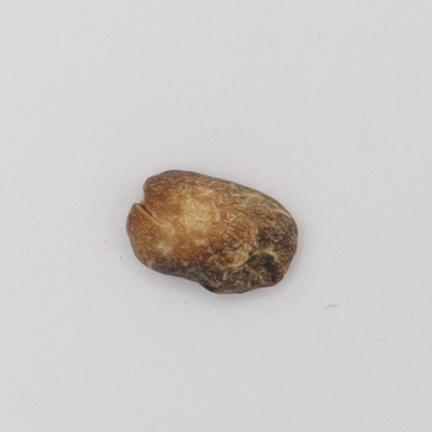partial-black: (128, 170, 296, 293)
